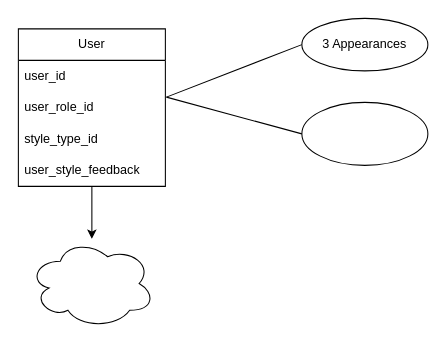
Image size: 446x346. Some labels were removed from this diagram. The centre of each missing label's shape, as x and y in pixels:
5 Positions: (x=364, y=133)
Target: style_type_id: (x=91, y=283)
